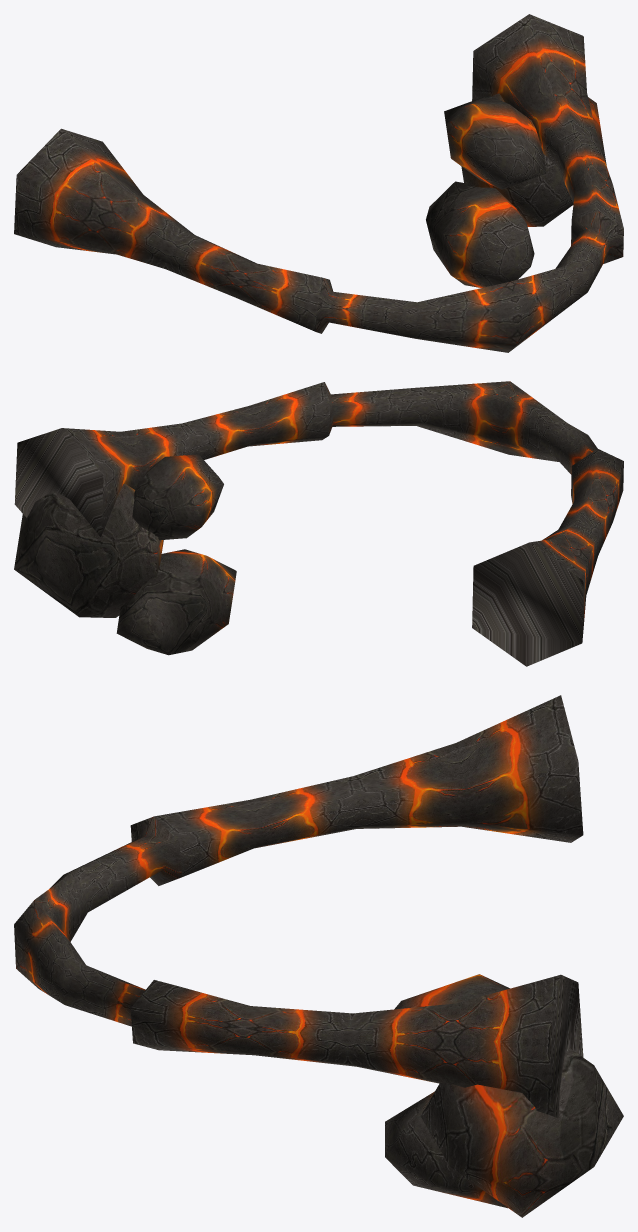
Rendered from rock-pillar_06.obj.
3 renders of one model, top to bottom at view 1: azimuth 30°, elevation 25°; view 2: azimuth 150°, elevation 25°; view 3: azimuth 270°, elevation 25°, orthographic. The views are drawn at different scales.
Parts seen in each view (by area): view 1: (null); view 2: (null); view 3: (null).
Part boxes in pixels (x1,y1,x2,y2): (null): (14,14,623,352); (null): (14,381,623,666); (null): (14,695,623,1217).
Size of the model in its own units: 12.73 by 4.74 by 9.58.
